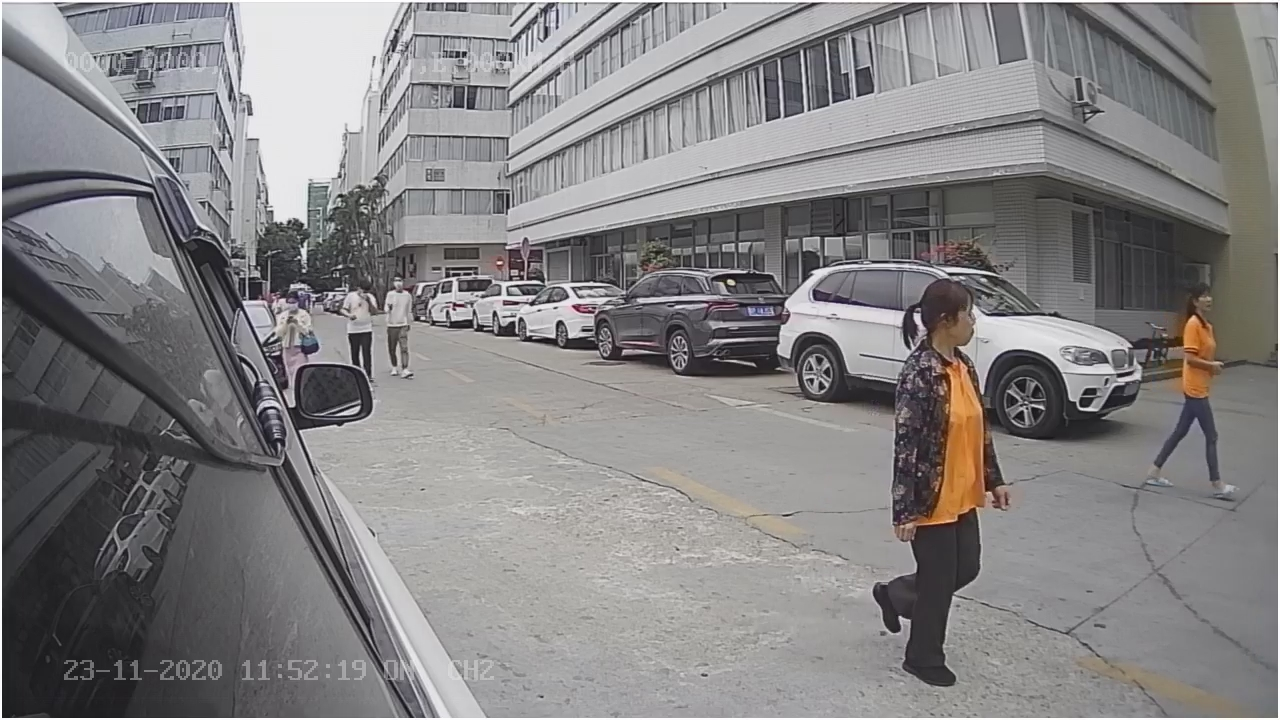person: (881, 271, 1009, 683)
